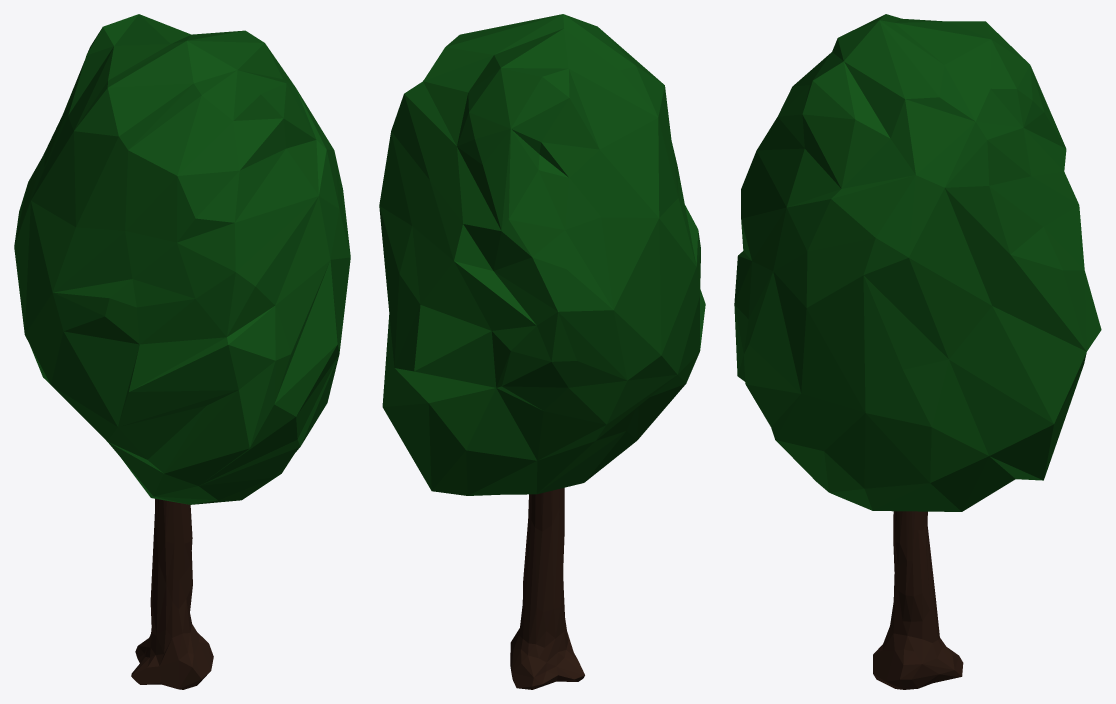
The model's file is SM_tree_09.fbx.
3 views of the same model, side by side, from view 1: azimuth 30°, elevation 25°; view 2: azimuth 150°, elevation 25°; view 3: azimuth 270°, elevation 25° (orthographic).
Visible parts, largest first — view 1: tree_09; view 2: tree_09; view 3: tree_09.
Part boxes in pixels (x1,y1,x2,y2): tree_09: [14, 14, 350, 689]; tree_09: [379, 14, 705, 689]; tree_09: [734, 14, 1101, 689].
Size of the model in its own units: 507 by 1114 by 562.
